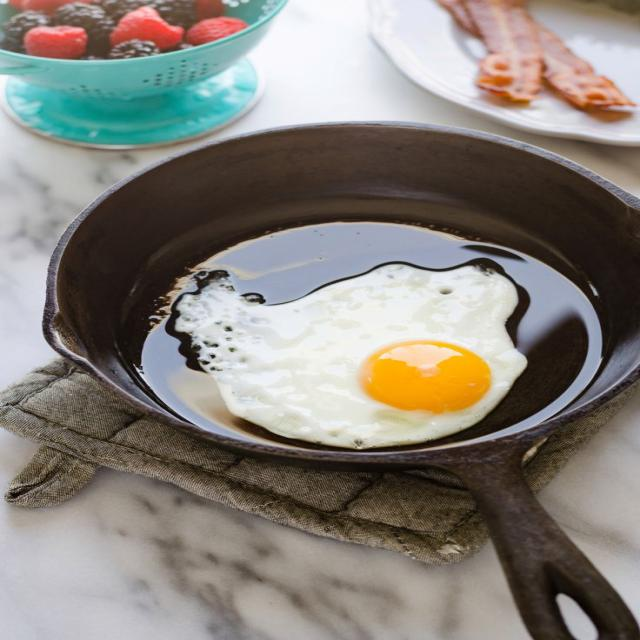beacon: (530, 16, 634, 111), (464, 0, 543, 102), (437, 0, 480, 37)
fryed egg: (175, 264, 526, 448)
raspberry: (53, 2, 115, 54), (110, 7, 183, 50), (23, 26, 87, 59), (3, 10, 49, 52), (187, 17, 248, 45), (152, 0, 195, 28), (108, 39, 160, 59), (96, 0, 145, 20)
